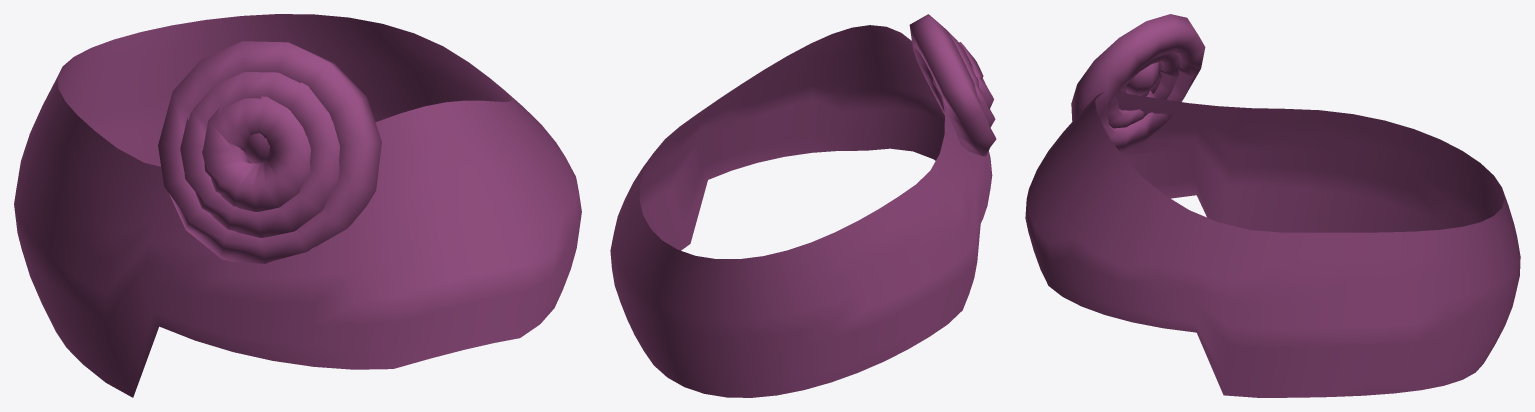
The model's file is gele_rose_f.glb.
The picture shows the model from 3 angles, left to right: view 1: azimuth 30°, elevation 25°; view 2: azimuth 150°, elevation 25°; view 3: azimuth 270°, elevation 25°; orthographic projection. The views are drawn at different scales.
Parts seen in each view (by area): view 1: hair; view 2: hair; view 3: hair.
Boxes of the visible parts, x1,y1,x2,y2 form: hair: [14, 14, 581, 397]; hair: [610, 14, 996, 397]; hair: [1025, 14, 1520, 397].
Bounding box in the file's own units: 0.2022 × 0.1723 × 0.2607.
